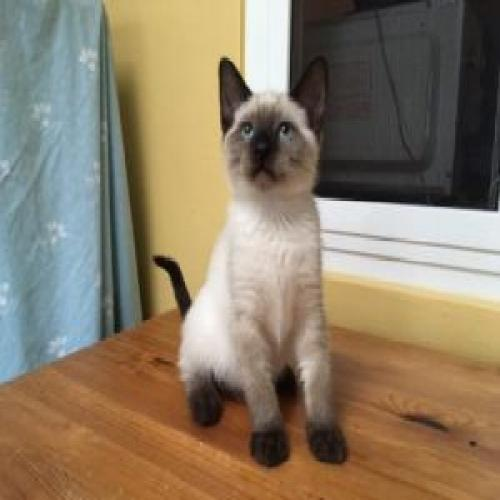siamese: (209, 43, 347, 220)
